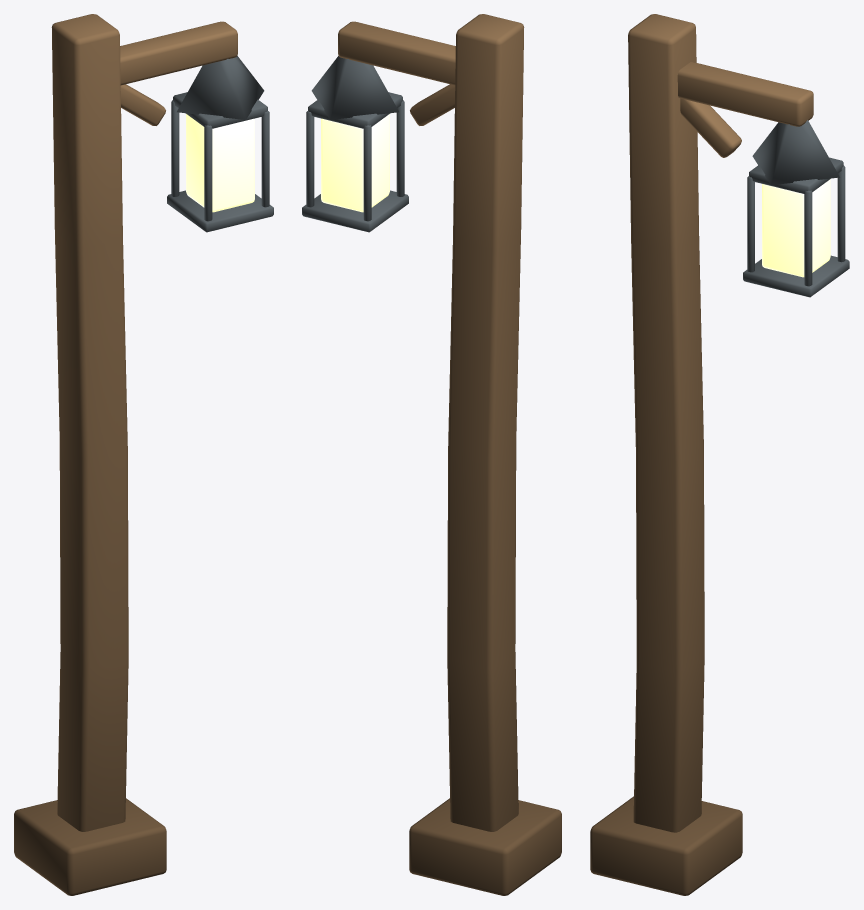
File: lantern_post.glb
3 views of the same model, side by side, from view 1: azimuth 30°, elevation 25°; view 2: azimuth 150°, elevation 25°; view 3: azimuth 330°, elevation 25° (orthographic).
Visible parts, largest first — view 1: Lantern_Post_Pole, Lantern_Post_Arm, Lantern_Post_Cage, Lantern_Post_Glass, Lantern_Post_Hat; view 2: Lantern_Post_Pole, Lantern_Post_Arm, Lantern_Post_Cage, Lantern_Post_Glass, Lantern_Post_Hat; view 3: Lantern_Post_Pole, Lantern_Post_Arm, Lantern_Post_Cage, Lantern_Post_Glass, Lantern_Post_Hat.
Boxes of the visible parts, box(x1,y1,x2,y2) form: Lantern_Post_Pole: box(14, 14, 166, 895); Lantern_Post_Arm: box(120, 21, 237, 125); Lantern_Post_Cage: box(167, 92, 273, 232); Lantern_Post_Glass: box(186, 114, 254, 212); Lantern_Post_Hat: box(177, 56, 264, 119); Lantern_Post_Pole: box(409, 14, 561, 895); Lantern_Post_Arm: box(338, 21, 455, 125); Lantern_Post_Cage: box(302, 92, 408, 232); Lantern_Post_Glass: box(321, 114, 389, 212); Lantern_Post_Hat: box(311, 56, 398, 119); Lantern_Post_Pole: box(590, 14, 742, 895); Lantern_Post_Arm: box(677, 62, 813, 157); Lantern_Post_Cage: box(743, 157, 849, 297); Lantern_Post_Glass: box(762, 179, 830, 277); Lantern_Post_Hat: box(752, 120, 839, 185).
Size of the model in its own units: 0.585 by 2.1 by 0.26.
